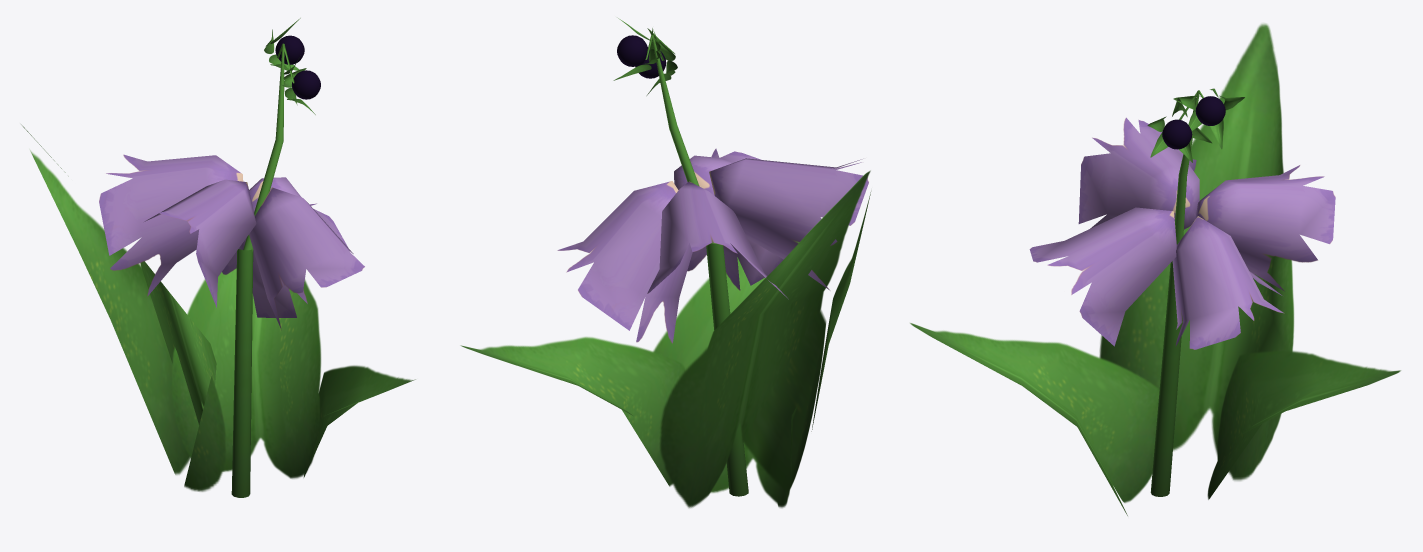
File: nightshade.glb
3 views of the same model, side by side, from view 1: azimuth 30°, elevation 25°; view 2: azimuth 150°, elevation 25°; view 3: azimuth 270°, elevation 25° (orthographic). The views are drawn at different scales.
Parts seen in each view (by area): view 1: Flower_4_Group, Sphere.001, Sphere; view 2: Flower_4_Group, Sphere; view 3: Flower_4_Group, Sphere, Sphere.001.
Part boxes in pixels (bbox=[...]): Flower_4_Group: bbox=[21, 18, 415, 497]; Sphere.001: bbox=[292, 70, 320, 99]; Sphere: bbox=[275, 35, 304, 64]; Flower_4_Group: bbox=[460, 17, 871, 507]; Sphere: bbox=[617, 35, 647, 66]; Flower_4_Group: bbox=[910, 23, 1400, 515]; Sphere: bbox=[1195, 96, 1225, 125]; Sphere.001: bbox=[1162, 119, 1192, 149].
Bounding box in the file's own units: 0.1933 × 0.2667 × 0.2523.
Materials: 3 (2 with a texture image).
